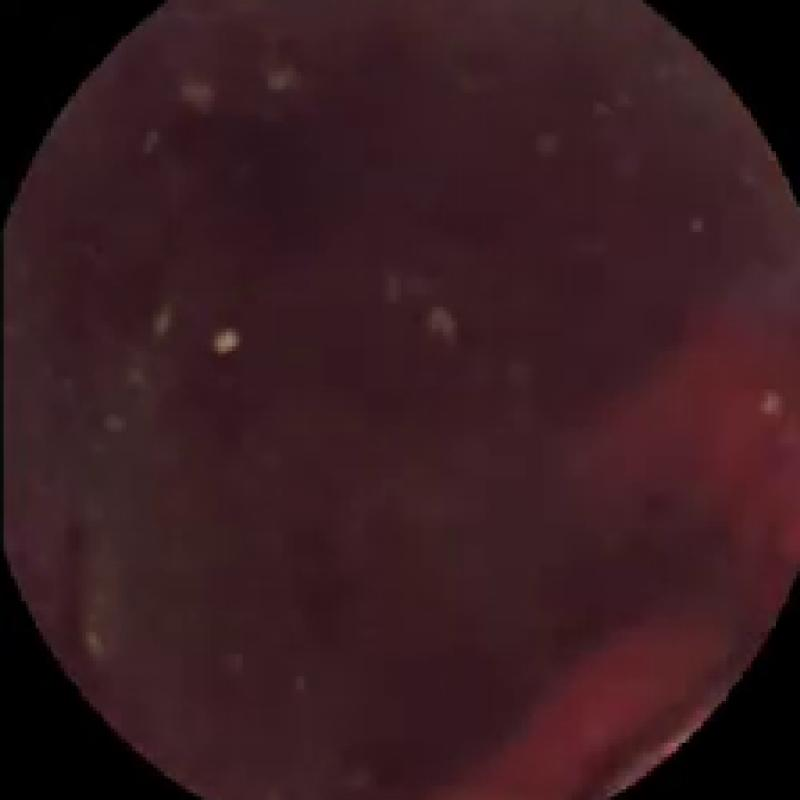bleeding: (457, 325, 800, 800)
